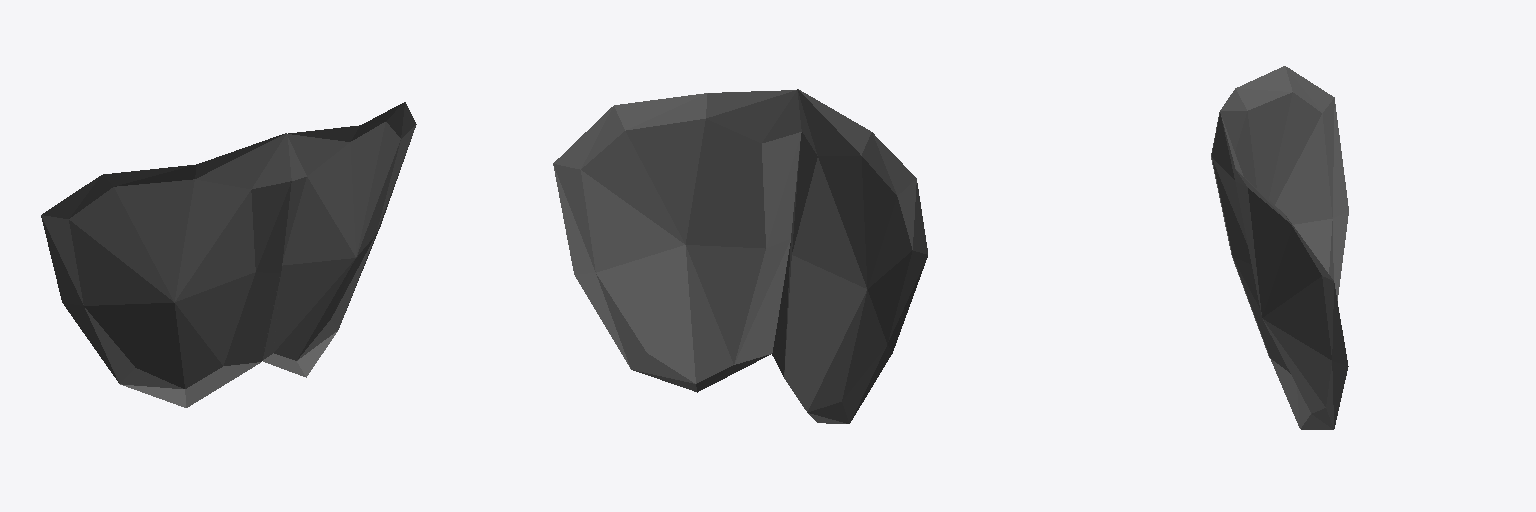
The model's file is Worm_Eyes.obj.
3 views of the same model, side by side, from view 1: azimuth 30°, elevation 25°; view 2: azimuth 150°, elevation 25°; view 3: azimuth 270°, elevation 25° (orthographic).
Parts seen in each view (by area): view 1: Inst3D_RefRep.225; view 2: Inst3D_RefRep.225; view 3: Inst3D_RefRep.225.
Boxes of the visible parts, box(x1,y1,x2,y2) form: Inst3D_RefRep.225: box(41, 102, 416, 407); Inst3D_RefRep.225: box(553, 89, 927, 423); Inst3D_RefRep.225: box(1211, 66, 1348, 429).
Bounding box in the file's own units: 1.65 × 1.22 × 0.5257.